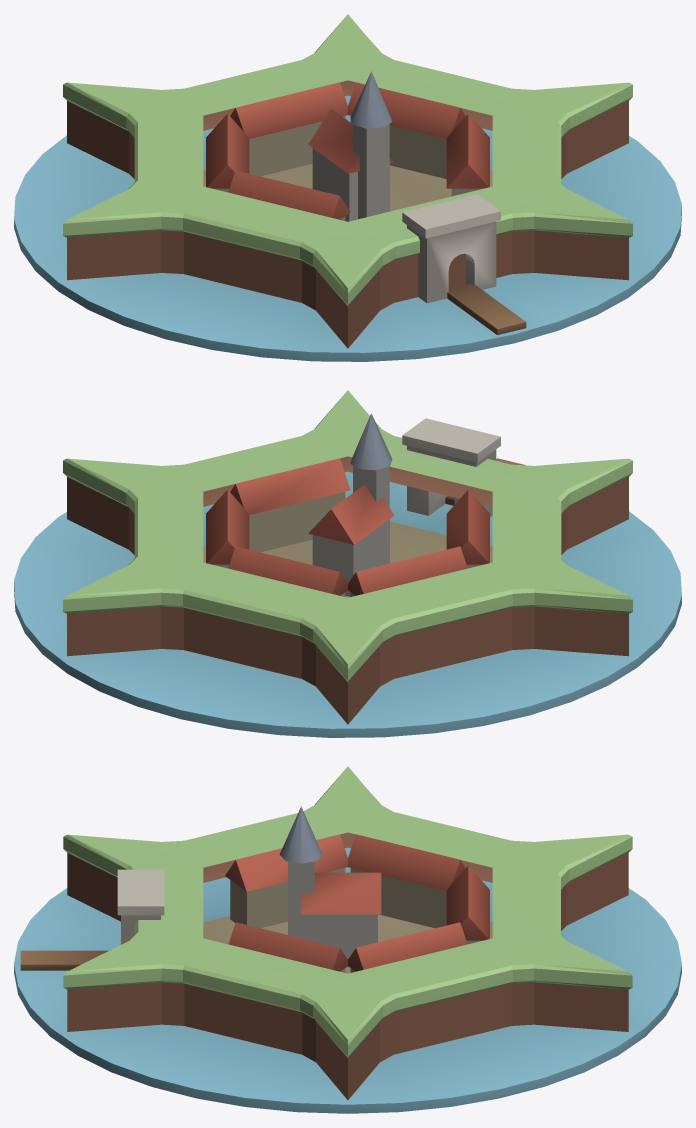
The model's file is arad.glb.
3 renders of one model, top to bottom at view 1: azimuth 30°, elevation 25°; view 2: azimuth 150°, elevation 25°; view 3: azimuth 270°, elevation 25°, orthographic.
Parts seen in each view (by area): view 1: arad_grass, arad_water, arad_brick, arad_roofRed, arad_cream, arad_plaster, arad_stoneLight, arad_sand, arad_stoneGray, arad_wood, arad_roofSlate; view 2: arad_grass, arad_water, arad_brick, arad_roofRed, arad_plaster, arad_cream, arad_stoneGray, arad_sand, arad_stoneLight, arad_roofSlate; view 3: arad_grass, arad_water, arad_brick, arad_roofRed, arad_cream, arad_plaster, arad_stoneGray, arad_sand, arad_wood, arad_roofSlate.
Boxes of the visible parts, left/top/right/bottom form: arad_grass: left=63, top=14, right=632, bottom=305; arad_water: left=14, top=95, right=681, bottom=361; arad_brick: left=67, top=80, right=628, bottom=348; arad_roofRed: left=206, top=82, right=489, bottom=219; arad_cream: left=213, top=116, right=482, bottom=220; arad_plaster: left=312, top=124, right=389, bottom=221; arad_stoneLight: left=407, top=221, right=496, bottom=303; arad_sand: left=203, top=163, right=492, bottom=211; arad_stoneGray: left=402, top=194, right=500, bottom=238; arad_wood: left=447, top=283, right=526, bottom=334; arad_roofSlate: left=350, top=71, right=392, bottom=128; arad_grass: left=63, top=390, right=632, bottom=681; arad_water: left=14, top=471, right=681, bottom=737; arad_brick: left=67, top=456, right=628, bottom=724; arad_roofRed: left=206, top=458, right=489, bottom=595; arad_plaster: left=312, top=465, right=389, bottom=596; arad_cream: left=213, top=492, right=482, bottom=596; arad_stoneGray: left=402, top=418, right=500, bottom=462; arad_sand: left=203, top=521, right=492, bottom=597; arad_stoneLight: left=407, top=445, right=496, bottom=517; arad_roofSlate: left=350, top=413, right=392, bottom=470; arad_grass: left=63, top=766, right=632, bottom=1057; arad_water: left=14, top=847, right=681, bottom=1113; arad_brick: left=67, top=832, right=628, bottom=1099; arad_roofRed: left=225, top=834, right=489, bottom=971; arad_cream: left=230, top=868, right=481, bottom=972; arad_plaster: left=288, top=861, right=377, bottom=967; arad_stoneGray: left=117, top=869, right=164, bottom=915; arad_sand: left=203, top=914, right=492, bottom=973; arad_wood: left=20, top=950, right=108, bottom=970; arad_roofSlate: left=279, top=806, right=322, bottom=863.
Size of the model in its own units: 2 by 0.55 by 2.
